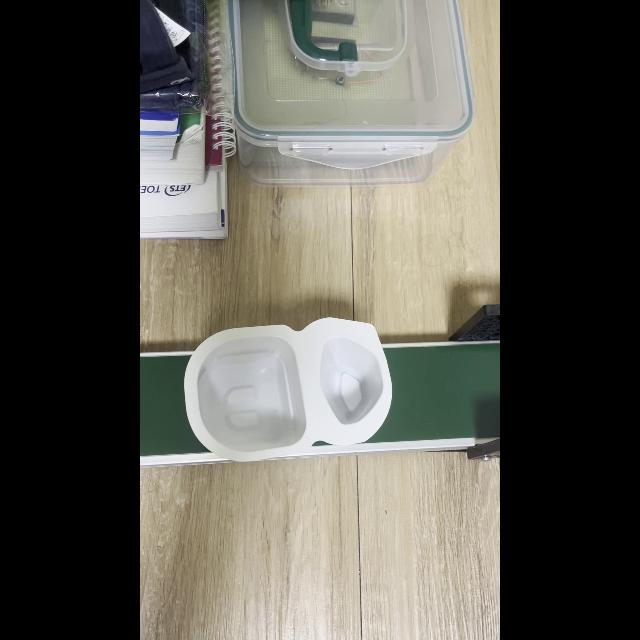clean: (184, 320, 392, 460)
